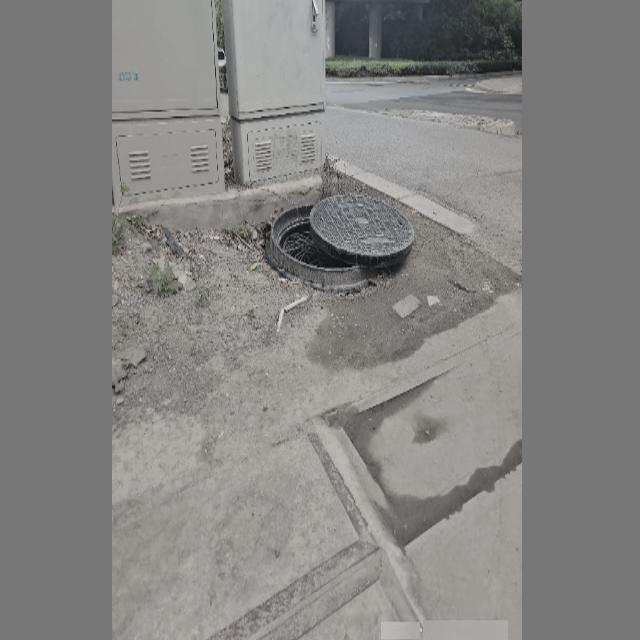uncovered: (270, 193, 412, 283)
